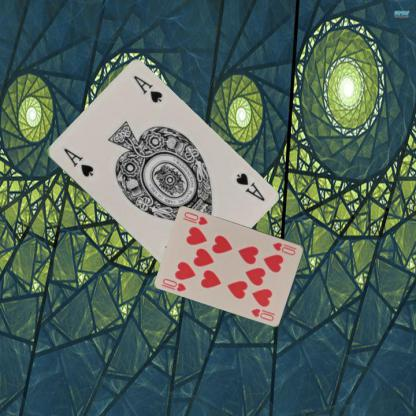10h: (160, 276, 188, 293), (270, 240, 298, 256)
As: (61, 145, 94, 179), (233, 170, 266, 203)
